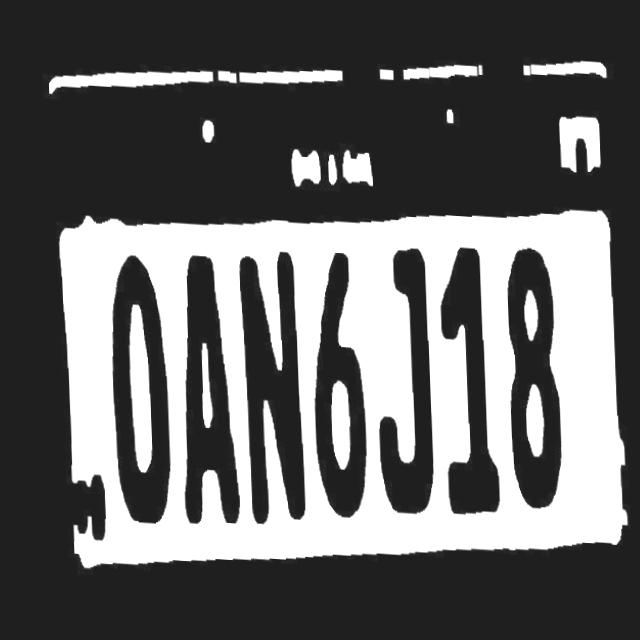1: (430, 221, 500, 518)
6: (302, 235, 366, 519)
8: (497, 236, 565, 512)
a: (171, 243, 237, 542)
j: (368, 229, 435, 514)
n: (235, 229, 305, 546)
o: (101, 233, 173, 533)
